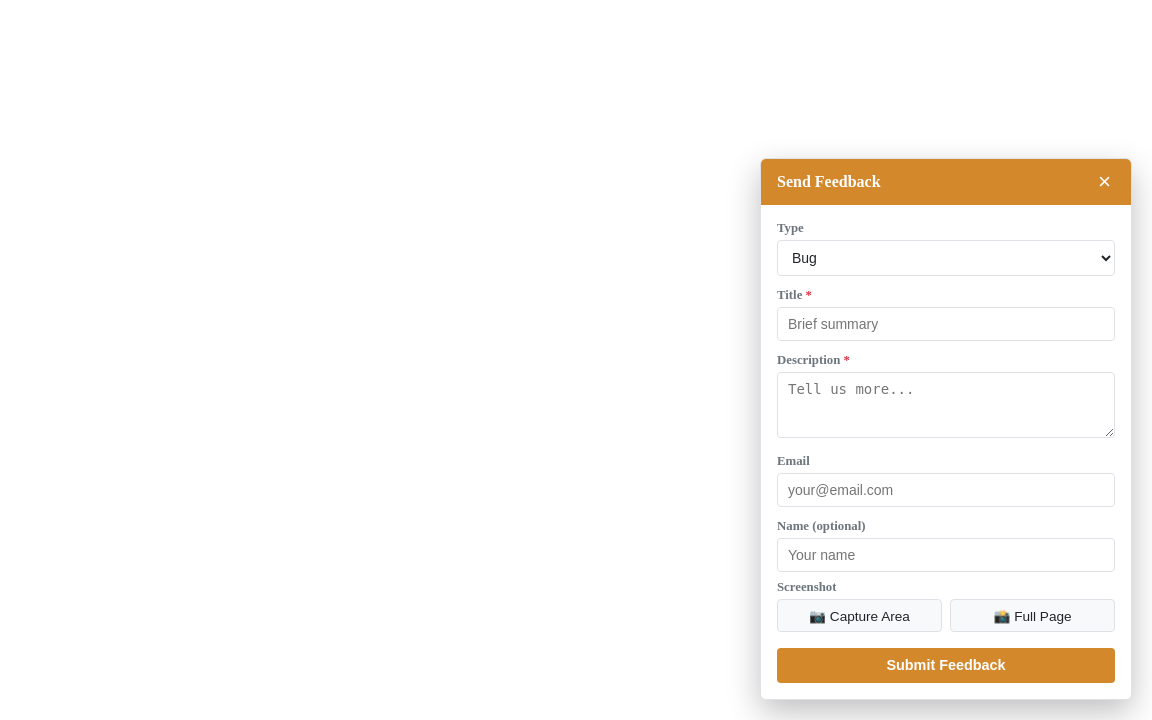
Test: what the widget reports about a capture › still reports something when the rejection is not one of ours
Click the button "📷 Capture Area": [860, 616] box x1=777 y1=599 x2=942 y2=632
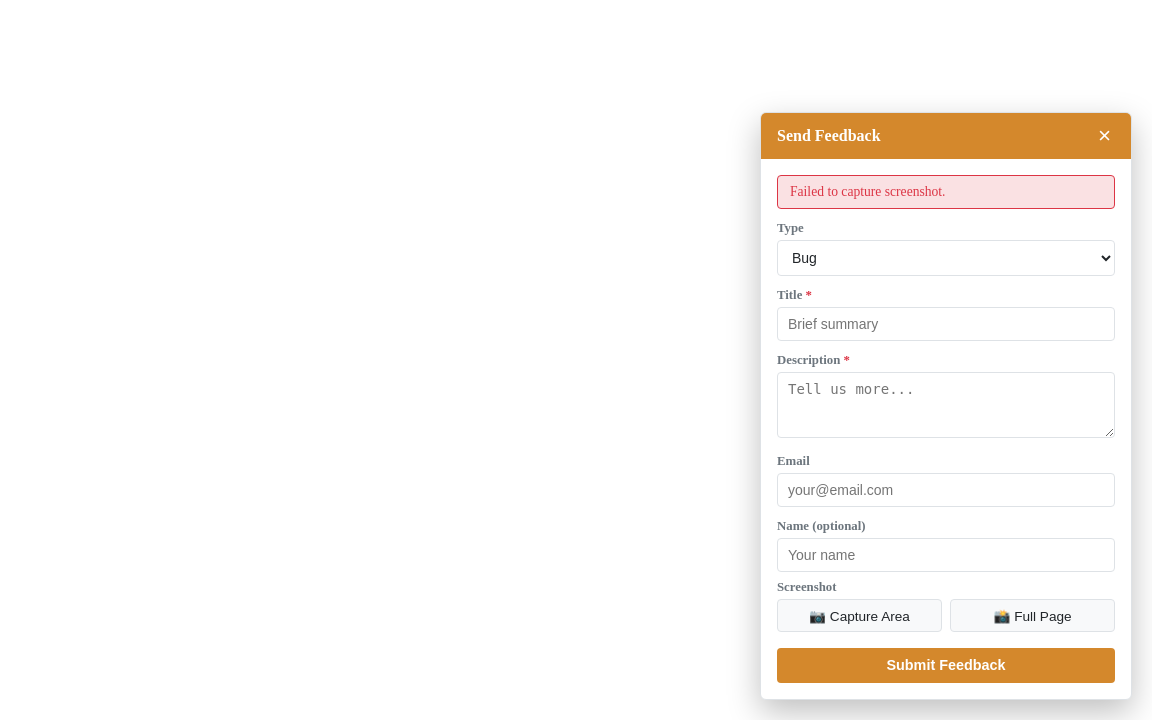
expect the text "Failed to capture screenshot." is shown: met, box x1=777 y1=175 x2=1115 y2=209
